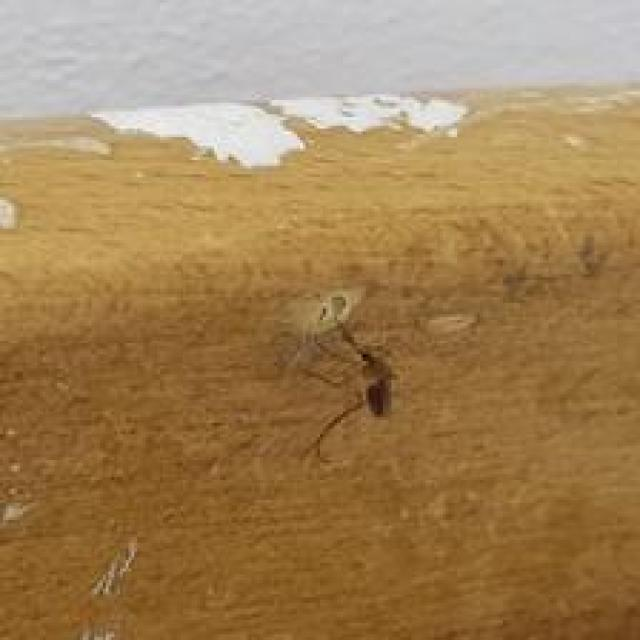Culex: (269, 284, 400, 464)
